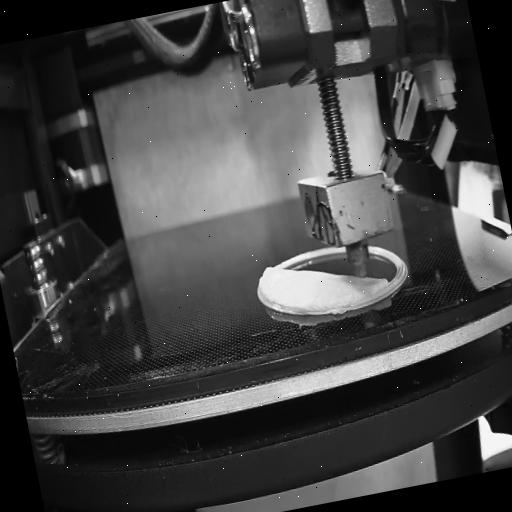over_extrusion: (253, 258, 282, 306)
